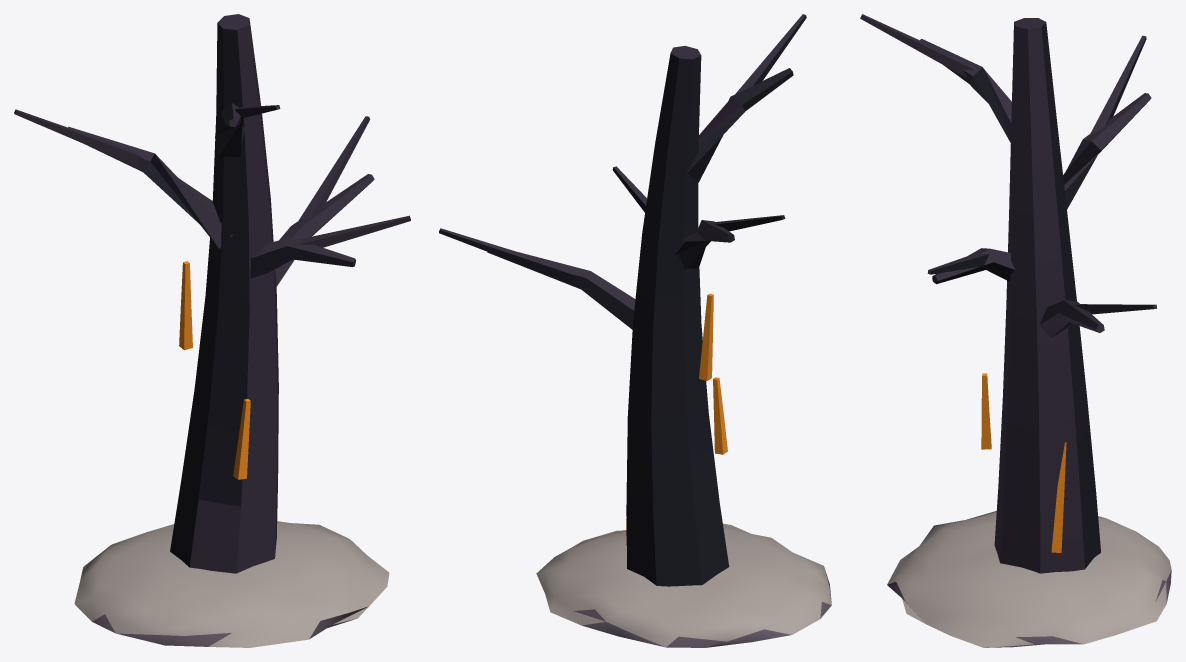
File: CharredTree.fbx
The picture shows the model from 3 angles, left to right: view 1: azimuth 30°, elevation 25°; view 2: azimuth 150°, elevation 25°; view 3: azimuth 270°, elevation 25°; orthographic projection. The views are drawn at different scales.
Visible parts, largest first — view 1: CharredTree; view 2: CharredTree; view 3: CharredTree.
Part boxes in pixels (box(x1,y1,x2,y2)): CharredTree: box(14, 14, 410, 647); CharredTree: box(439, 14, 831, 647); CharredTree: box(860, 14, 1171, 647).
Bounding box in the file's own units: 1.74 × 2.63 × 1.31.
2 materials, 2 textured.
